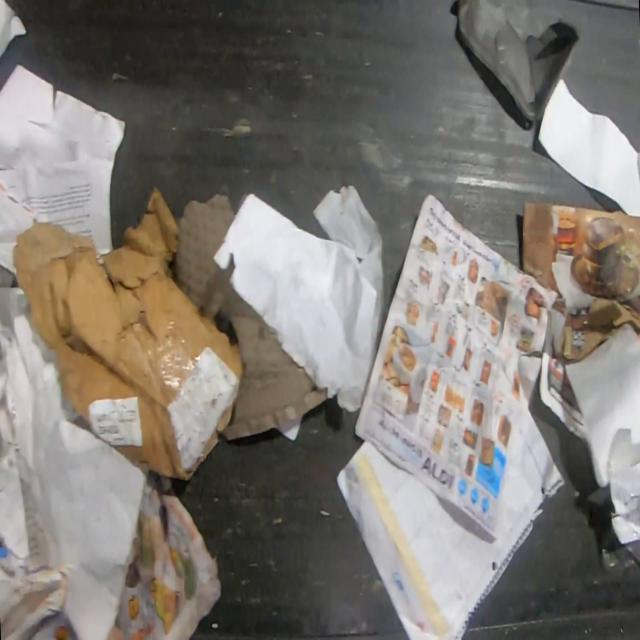cardboard: (11, 184, 245, 485), (521, 200, 640, 364)
rigid_plastic: (456, 0, 581, 124)
